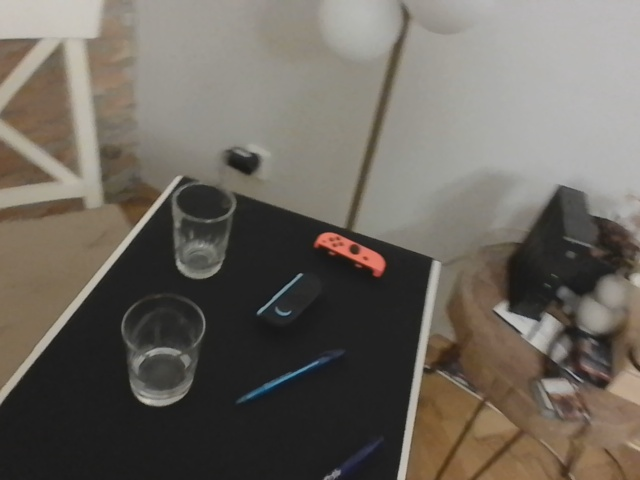glass: (120, 288, 203, 408), (165, 177, 232, 281)
joycon: (309, 226, 386, 276), (255, 274, 324, 326)
pen: (236, 348, 345, 404), (322, 435, 386, 480)
